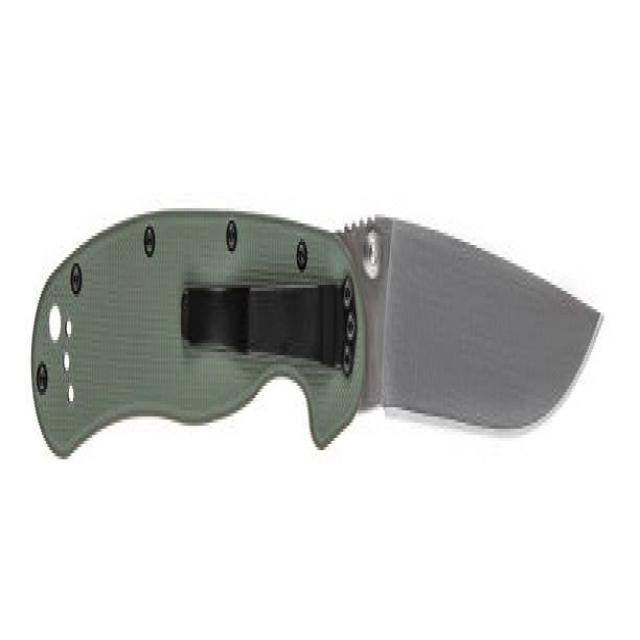knife: (27, 187, 611, 487)
